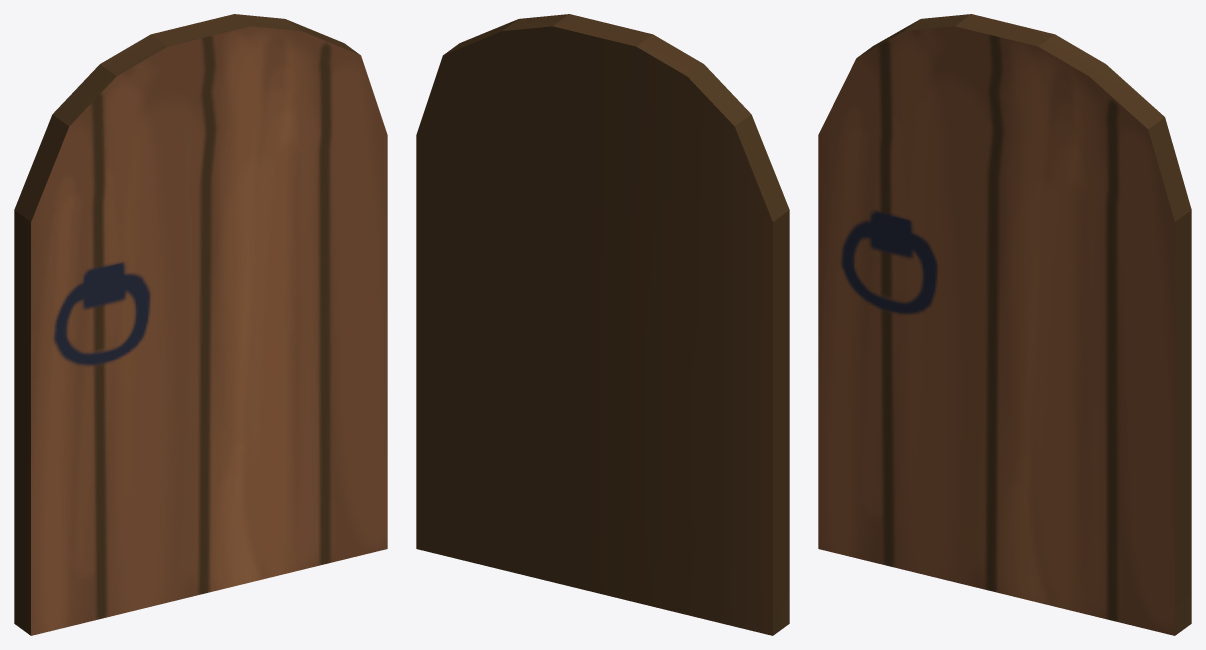
File: DungeonDoor.fbx
3 renders of one model, left to right at view 1: azimuth 30°, elevation 25°; view 2: azimuth 150°, elevation 25°; view 3: azimuth 330°, elevation 25°, orthographic.
Visible parts, largest first — view 1: polySurface6; view 2: polySurface6; view 3: polySurface6.
Boxes of the visible parts, left/top/right/bottom form: polySurface6: left=14, top=14, right=387, bottom=635; polySurface6: left=416, top=14, right=789, bottom=635; polySurface6: left=818, top=14, right=1191, bottom=635.
Bounding box in the file's own units: 88.16 × 131 × 7.19.
